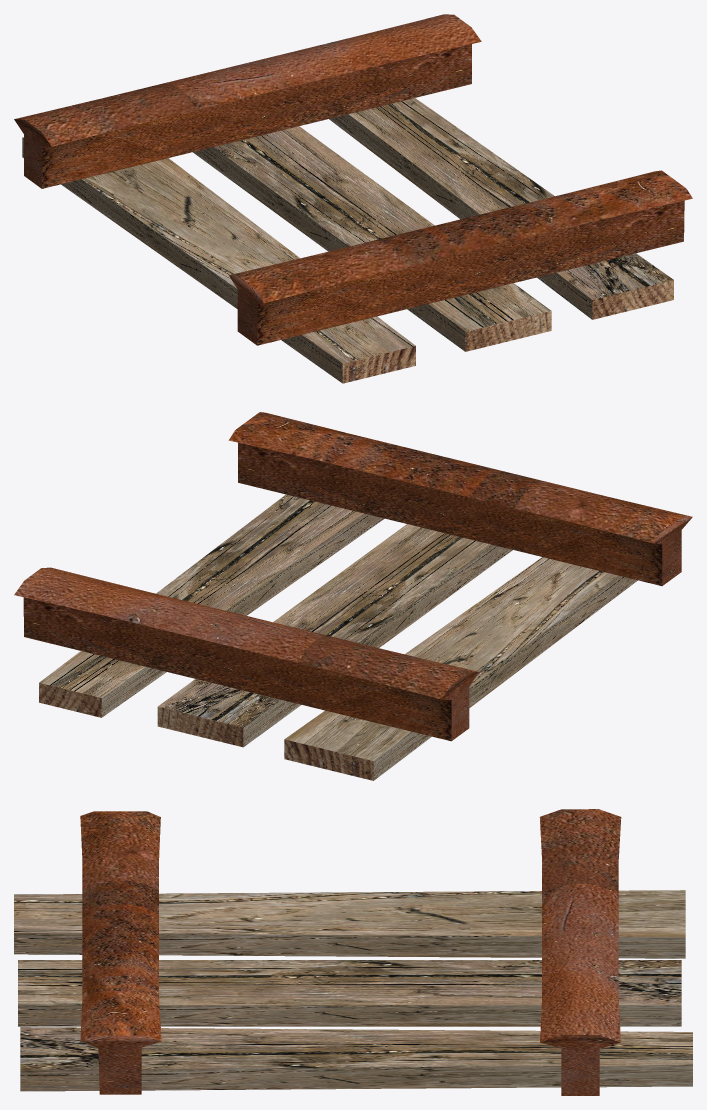
File: RailStraight 1.fbx
3 views of the same model, one above another, from view 1: azimuth 30°, elevation 25°; view 2: azimuth 150°, elevation 25°; view 3: azimuth 270°, elevation 25° (orthographic). The views are drawn at different scales.
Visible parts, largest first — view 1: pCube15; view 2: pCube15; view 3: pCube15.
Part boxes in pixels (x1,y1,x2,y2): pCube15: (14,14,692,383); pCube15: (14,412,692,780); pCube15: (14,809,692,1095).
Size of the model in its own units: 1 by 0.1742 by 1.27.
